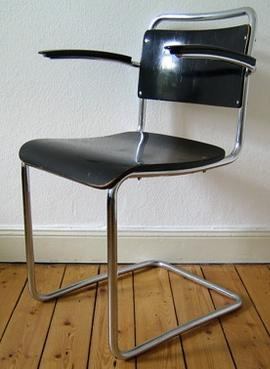obstacle: (19, 7, 255, 359)
